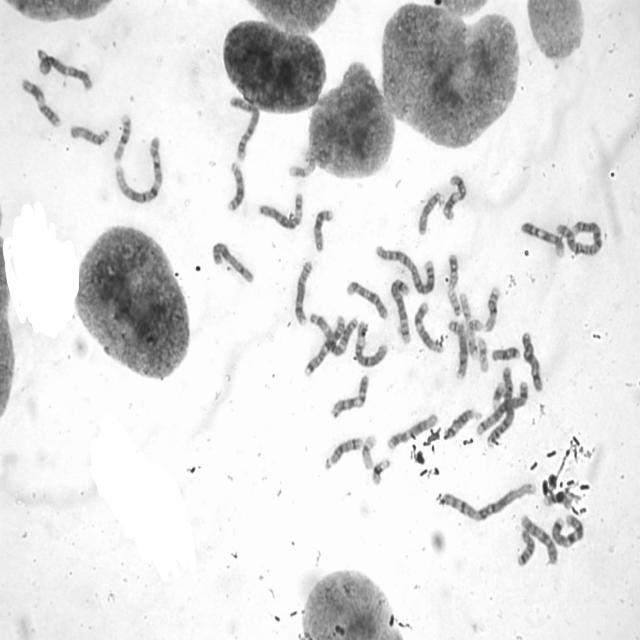A1: (439, 482, 537, 524), (114, 136, 163, 203)
A2: (375, 244, 436, 295), (556, 216, 604, 257)
A3: (35, 49, 93, 90), (309, 312, 359, 356)
B4: (486, 364, 515, 446), (228, 96, 262, 161)
B5: (476, 379, 528, 436), (389, 279, 413, 343)
C10: (519, 514, 560, 566), (345, 280, 389, 320)
C11: (20, 78, 61, 128), (442, 173, 469, 220)
C12: (386, 413, 438, 451), (414, 301, 444, 353)
C6: (354, 317, 389, 368), (257, 192, 303, 230)
C7: (303, 313, 345, 376), (550, 515, 584, 548)
C8: (294, 260, 314, 328), (448, 320, 468, 380)
C9: (329, 374, 369, 420), (520, 221, 566, 258)
D13: (227, 161, 246, 214), (312, 209, 334, 254)
D14: (324, 436, 363, 470), (444, 408, 483, 442)
D15: (417, 192, 445, 234), (70, 124, 110, 148)
E16: (112, 113, 132, 162), (484, 286, 501, 332)
E17: (288, 152, 316, 178), (468, 318, 484, 359)
E18: (516, 529, 536, 567), (492, 347, 522, 363)
F19: (361, 432, 376, 472), (476, 337, 490, 372)
F20: (543, 490, 572, 510), (448, 252, 461, 287)
G21: (370, 459, 390, 487), (490, 380, 506, 414)
G22: (448, 287, 462, 317), (458, 293, 472, 323)
X: (211, 240, 255, 284), (521, 331, 543, 392)
